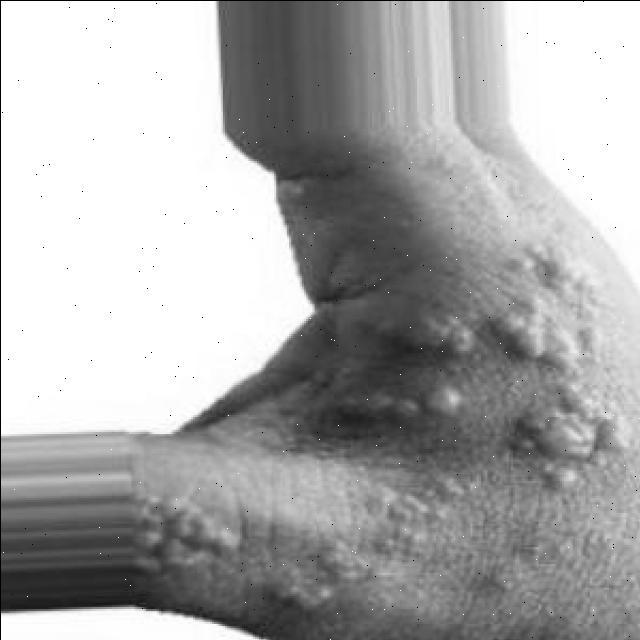Shingles: (497, 232, 629, 486), (123, 484, 240, 571), (363, 302, 476, 358), (330, 387, 469, 418)
